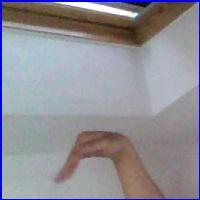del: (51, 128, 140, 190)
